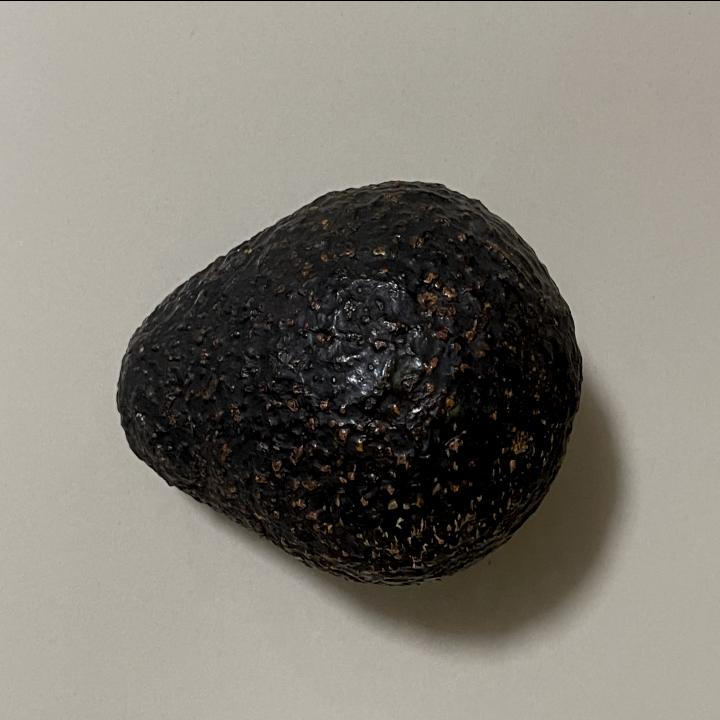Level2: (107, 172, 589, 592)
